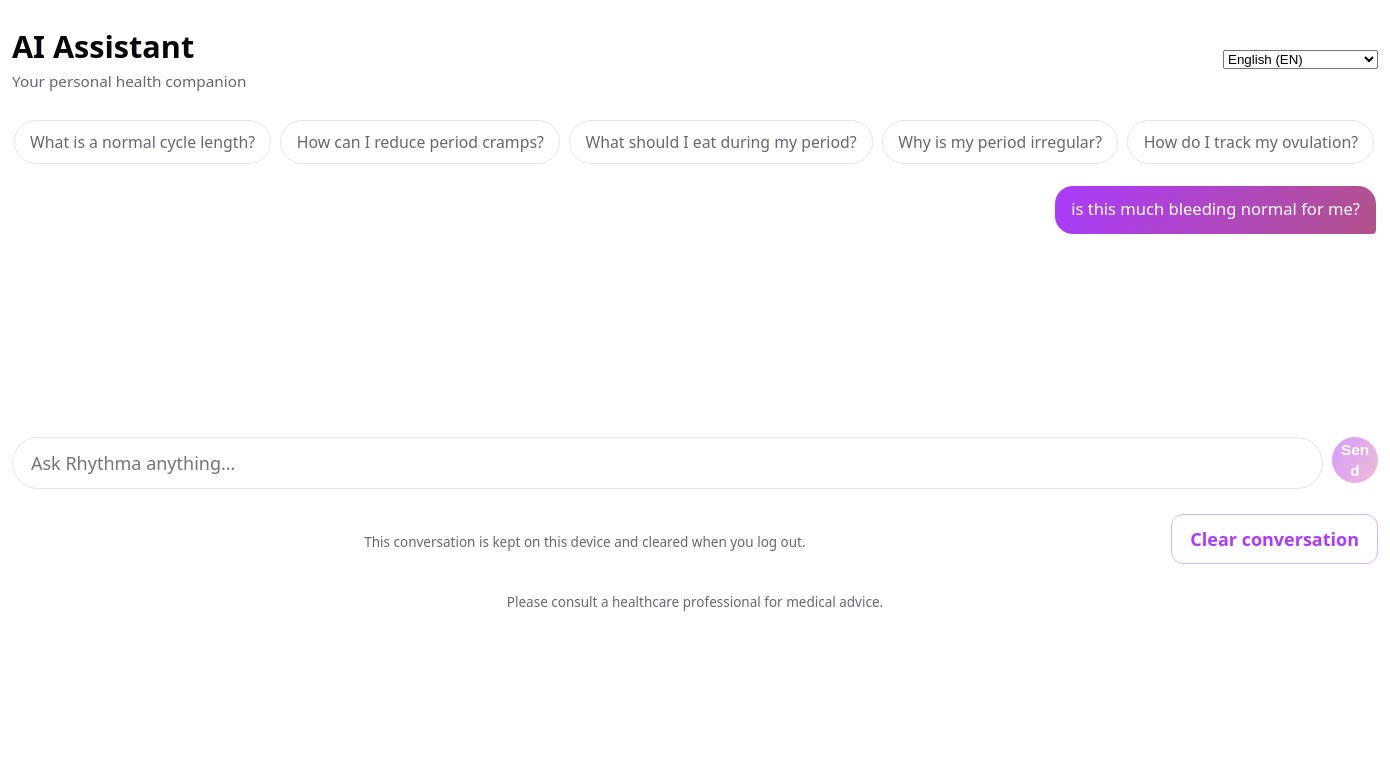
Test: clearing from the screen › clears the transcript from the screen and from storage
Check: the text "is this much bleeding normal for me?" is shown, box [1071,197,1360,222]
Click the button "Clear conversation" at (1275, 539), box [1171,514,1378,564]
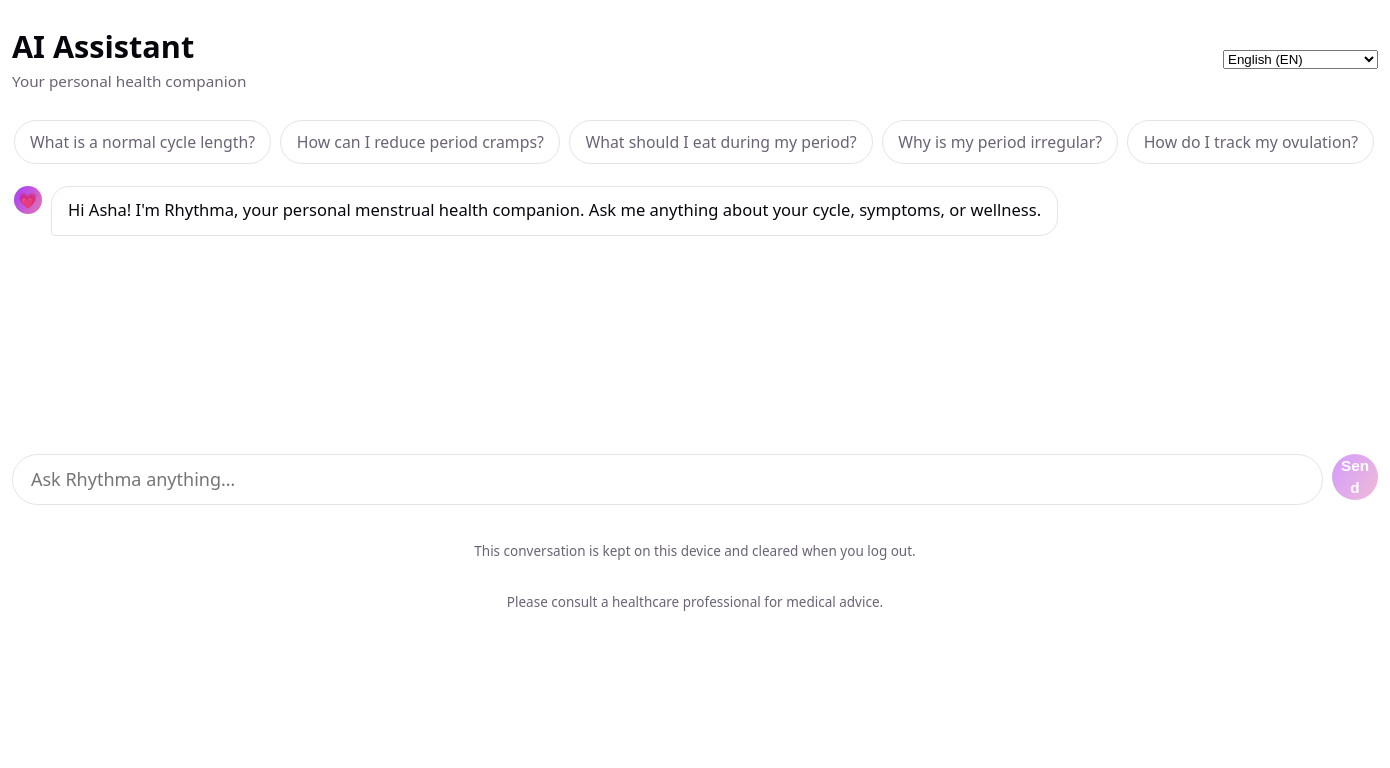
Check: the text "is this much bleeding normal for me?" is gone
